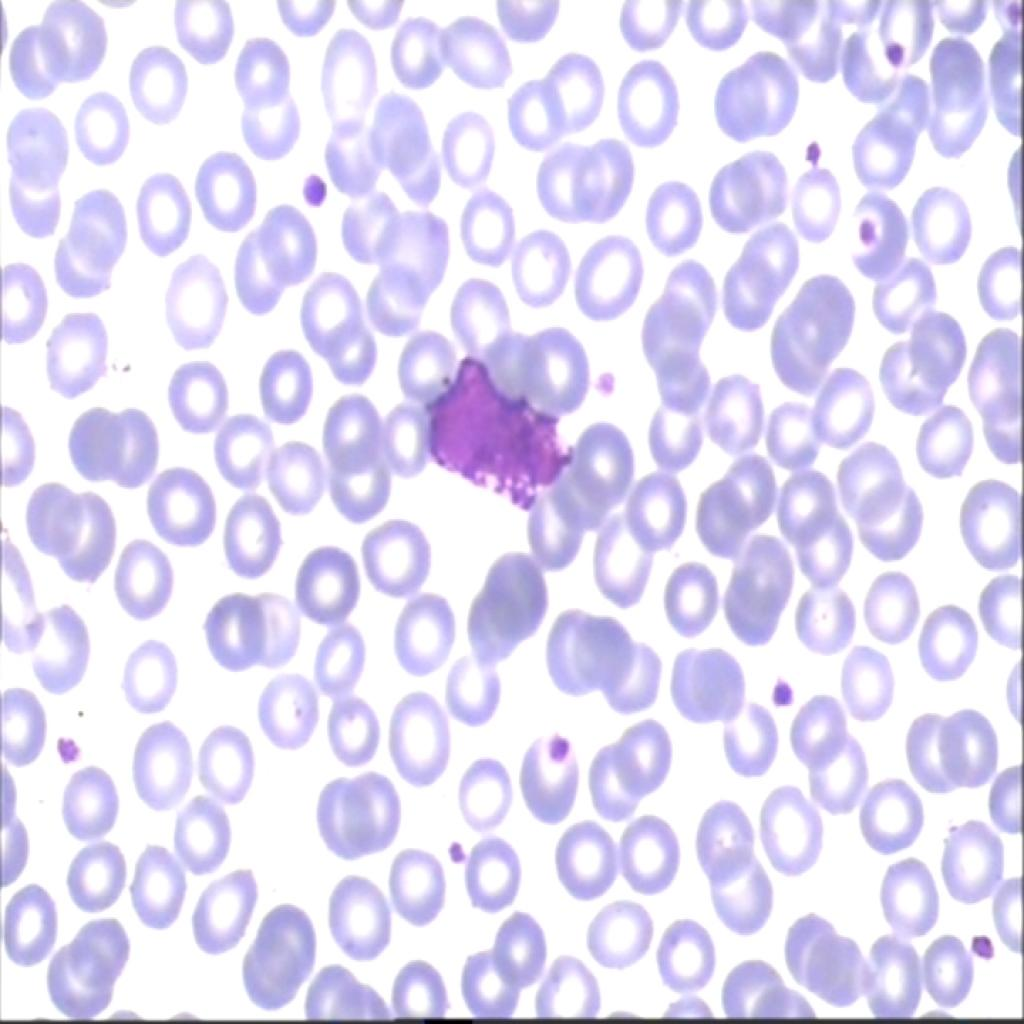Basofil: (420, 342, 568, 508)
Platelet: (589, 357, 647, 425), (785, 126, 838, 188), (546, 720, 582, 779), (52, 720, 86, 772), (845, 194, 876, 250), (293, 169, 333, 211), (762, 661, 796, 706), (970, 921, 996, 969), (446, 832, 470, 871), (886, 30, 900, 59)
